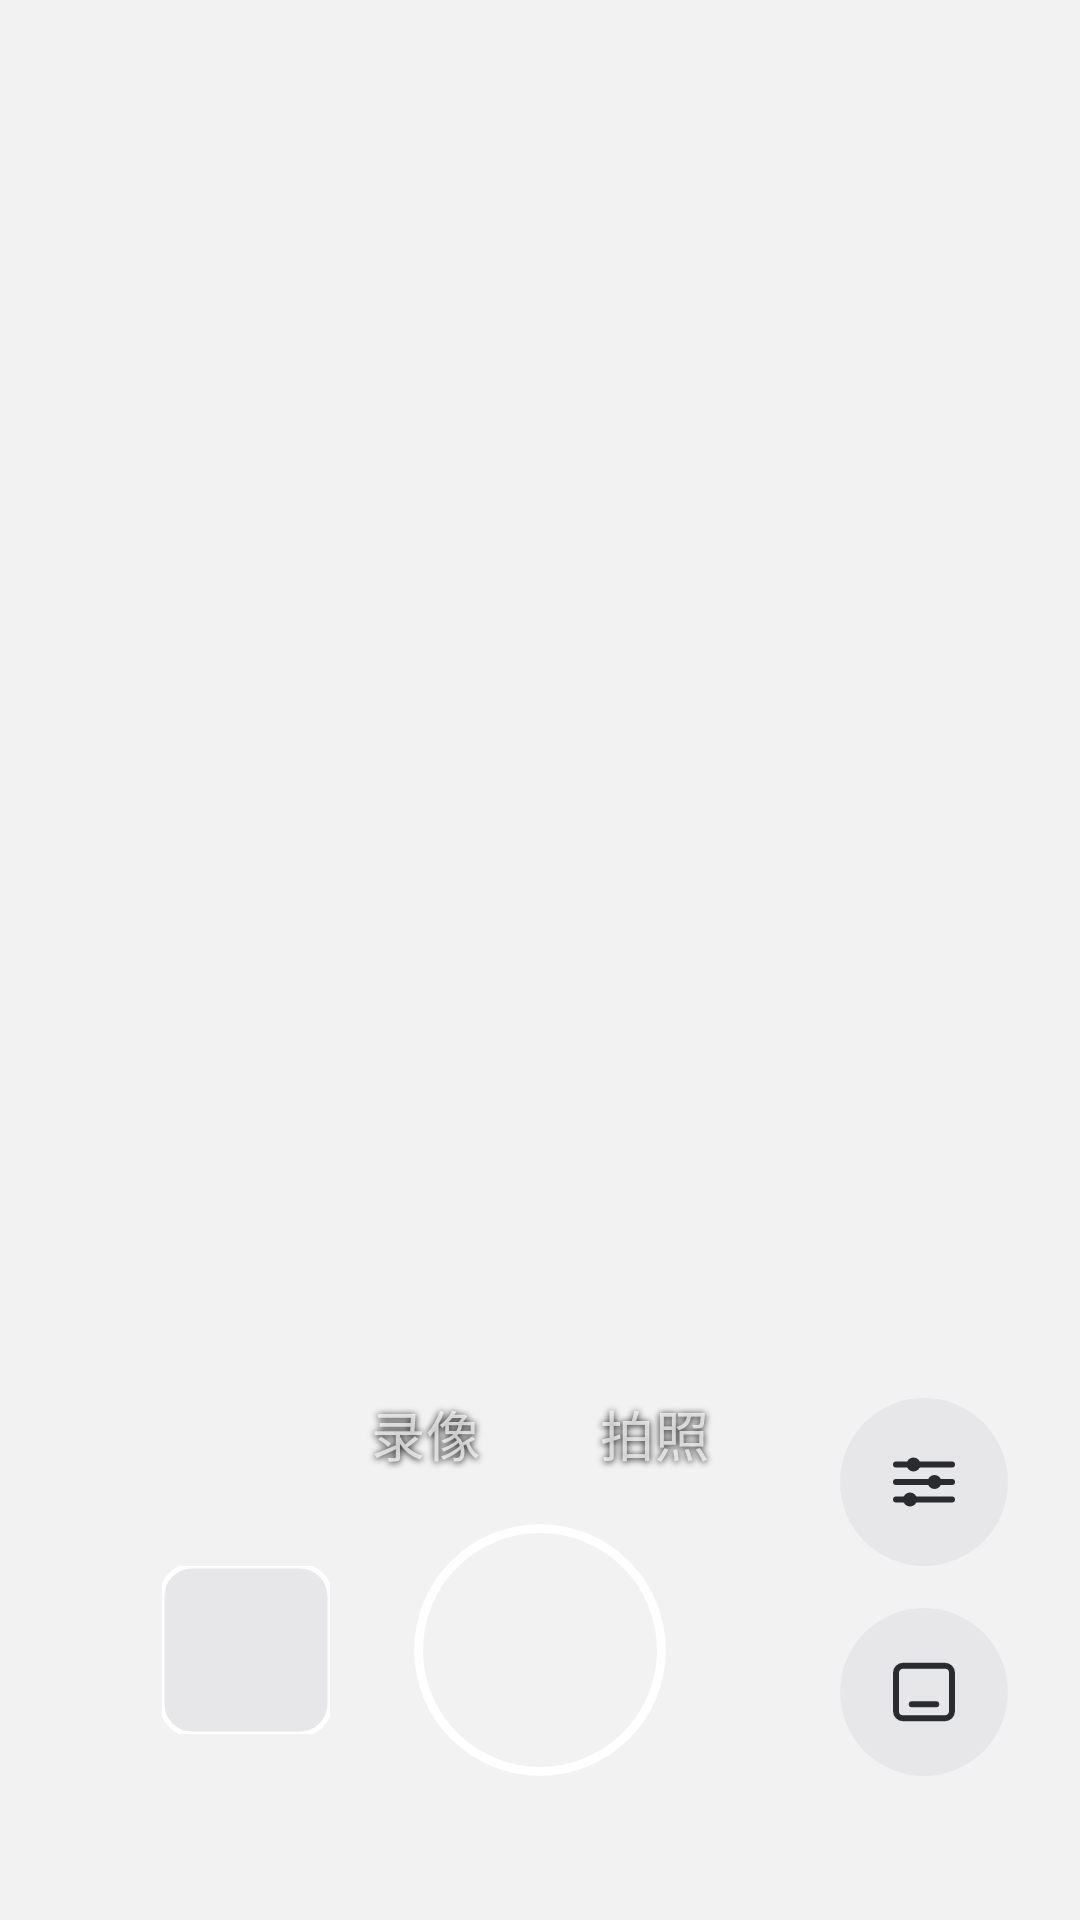

Icon bounding boxes for this 1080 × 1920 phone screenshot, format (x1, y1, x2, y2):
打开工具面板: (840, 1398, 1008, 1566)
隐藏到后台: (840, 1608, 1008, 1776)
